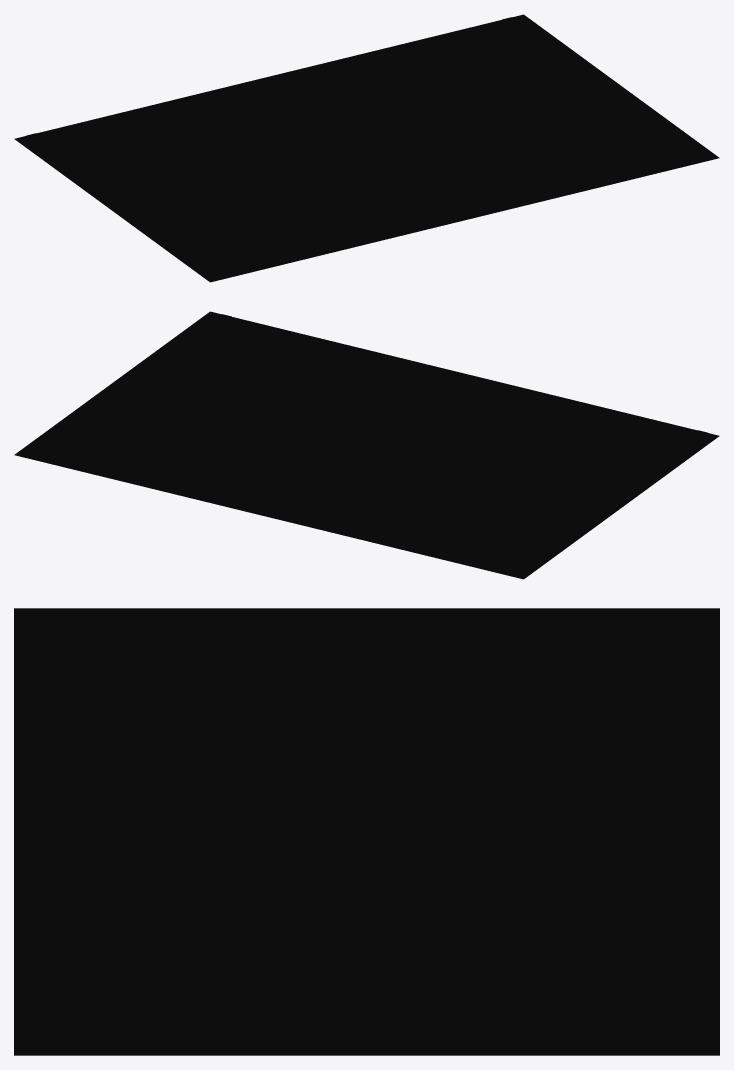
Rendered from SM_road.fbx.
3 renders of one model, top to bottom at view 1: azimuth 30°, elevation 25°; view 2: azimuth 150°, elevation 25°; view 3: azimuth 270°, elevation 25°, orthographic. The views are drawn at different scales.
Parts seen in each view (by area): view 1: road; view 2: road; view 3: road.
Boxes of the visible parts, box(x1,y1,x2,y2) form: road: box(14, 14, 719, 282); road: box(14, 311, 719, 579); road: box(14, 608, 719, 1055).
Bounding box in the file's own units: 6 × 0.0035 × 4.
